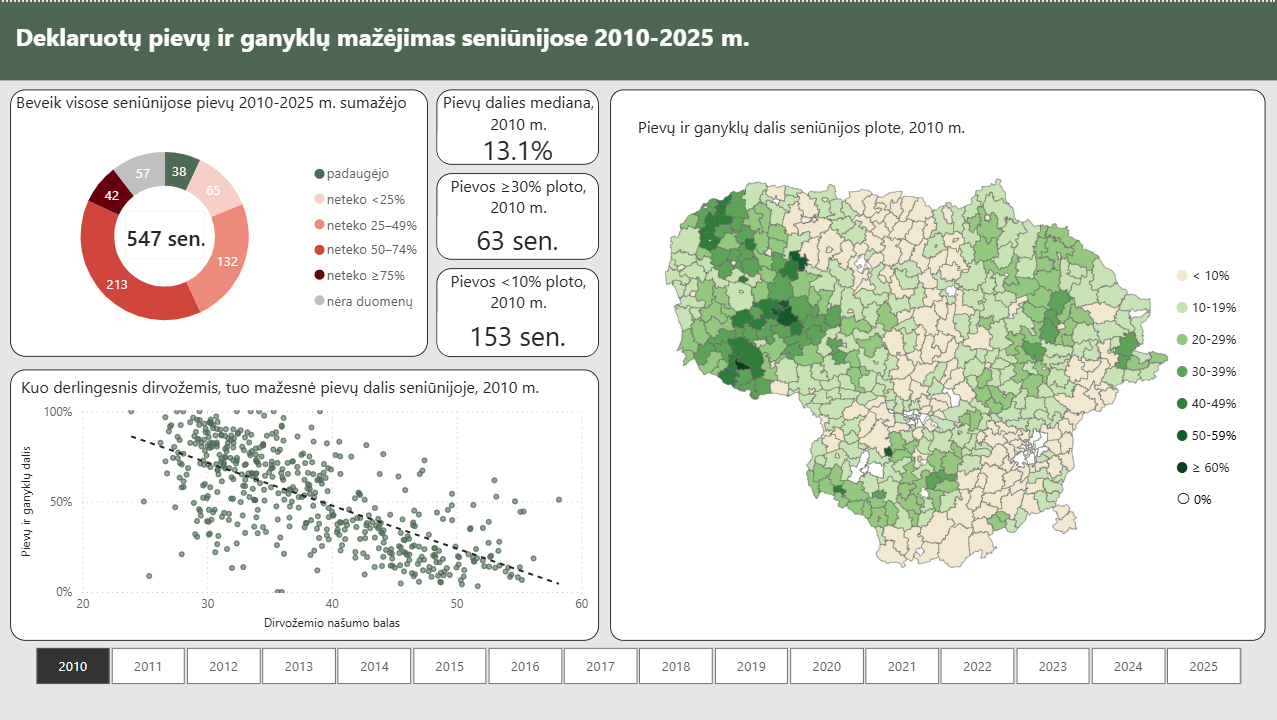

The page's visual inventory and layout, read from the dashboard file:
{"tool":"powerbi","page":{"name":"3. Seniūnijos","canvas":[1280,720],"ordinal":2},"visuals":[{"type":"textbox","box":[611.2,87.5,655,551.2],"z":0},{"type":"shape","box":[0,0,1280,78.8],"z":1000},{"type":"shapeMap","fields":{"Category":["LTterit.rajxsen"],"Series":["final20102025.PGproccatNuoSenPloto"]},"box":[611.2,107.5,567.5,493.8],"z":2000},{"type":"textbox","box":[1150,245,115,320],"z":3000},{"type":"slicer","fields":{"Values":["final20102025.metai"]},"box":[11.4,638.6,1254.3,50],"z":4000},{"type":"donutChart","fields":{"Category":["LTterit.PG_loss_cat"],"Y":["CountNonNull(LTterit.rajxsen)"]},"box":[11.2,87.5,417.5,267.5],"z":5000},{"type":"textbox","box":[11.7,13.3,833.3,53.3],"z":6000},{"type":"scatterChart","fields":{"Category":["našumas_sen.rajxsen"],"X":["Avg(našumas_sen.BALAS)"],"Y":["_measures.PGdalis"]},"box":[11.2,367.5,588.8,271.2],"z":7000},{"type":"cardVisual","fields":{"Data":["_measures.Med_SenPloto"]},"box":[437.5,87.5,162.5,75],"z":8000},{"type":"cardVisual","fields":{"Data":["_measures.Sen_daugiau30"]},"box":[437.5,171.2,162.5,86.2],"z":9000},{"type":"cardVisual","fields":{"Data":["_measures.Sen_maziau10"]},"box":[437.5,266.2,162.5,88.8],"z":10000},{"type":"cardVisual","fields":{"Data":["_measures.sen_viso"]},"box":[126.2,208.8,80,48.8],"z":10501}]}

Visuals, with their boxes in screenshot pixels (x1, y1, x2, y2), scaled from the page's 1280x720 canvas onto the 1277x720 screenshot:
textbox: locate(610, 88, 1263, 639)
shape: locate(0, 0, 1276, 79)
shapeMap - LTterit.rajxsen x final20102025.PGproccatNuoSenPloto: locate(610, 108, 1176, 601)
textbox: locate(1147, 245, 1262, 565)
slicer - final20102025.metai: locate(11, 639, 1263, 689)
donutChart - LTterit.PG_loss_cat x CountNonNull(LTterit.rajxsen): locate(11, 88, 428, 355)
textbox: locate(12, 13, 843, 67)
scatterChart - našumas_sen.rajxsen x Avg(našumas_sen.BALAS): locate(11, 368, 599, 639)
cardVisual - _measures.Med_SenPloto: locate(436, 88, 599, 162)
cardVisual - _measures.Sen_daugiau30: locate(436, 171, 599, 257)
cardVisual - _measures.Sen_maziau10: locate(436, 266, 599, 355)
cardVisual - _measures.sen_viso: locate(126, 209, 206, 258)
